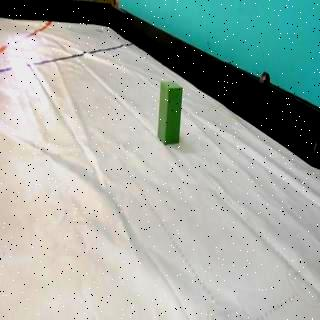greenbox: (158, 82, 184, 144)
